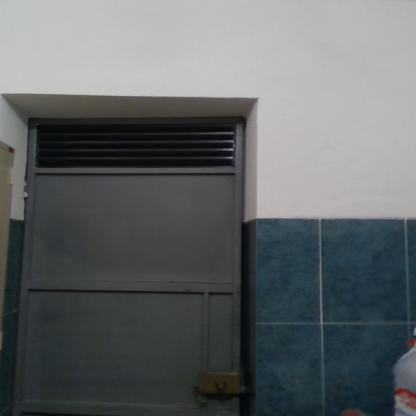door: (29, 117, 243, 415)
